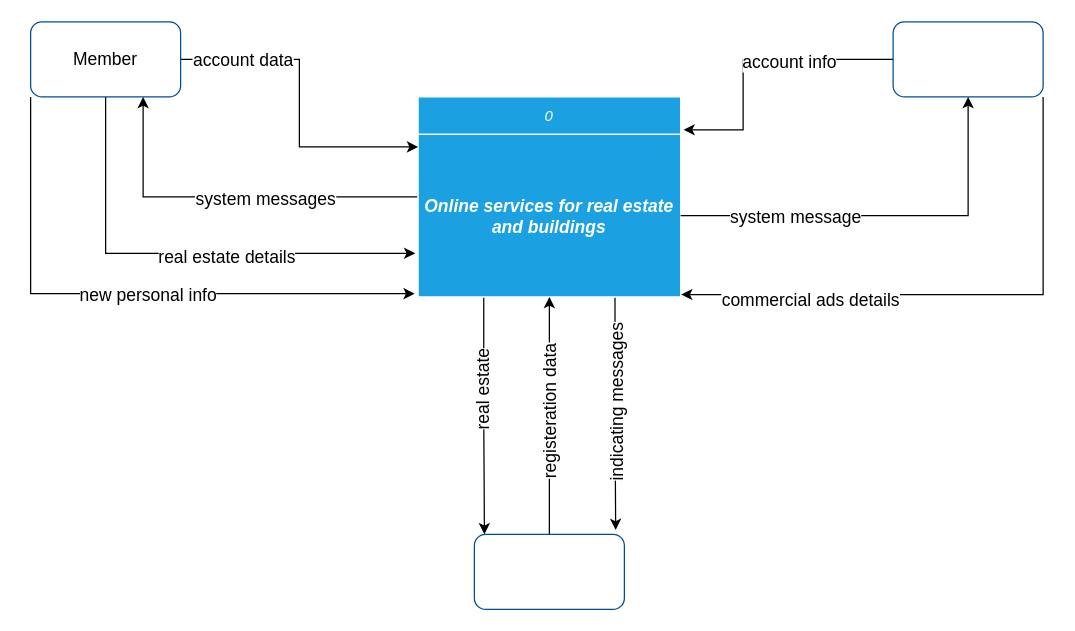
Image size: 1075x631. Some labels were removed from this diagram. Here are the shapes that lost their labels. From the top down, the centre of each, then its label:
the point at 967,59: Admin
the point at 548,571: Visitor
